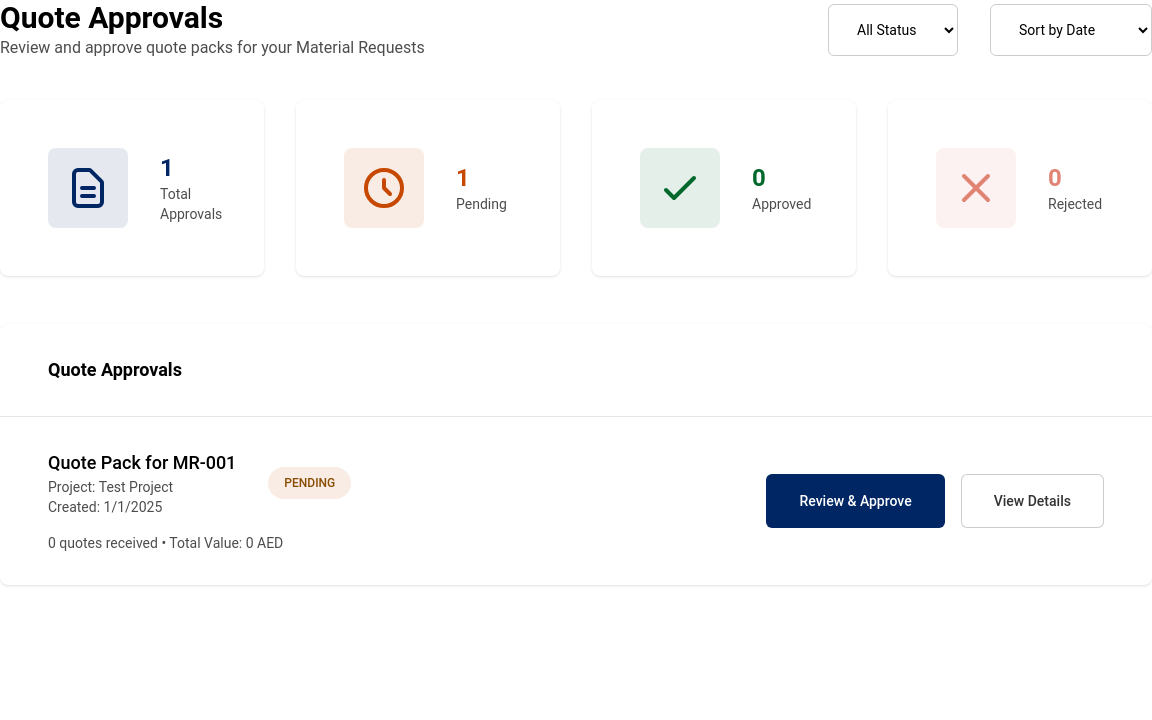
Test: QuoteApprovalDashboard › opens approval modal when approval is clicked
Expected: the heading "Quote Pack for MR-001" is shown, [48,449,236,477]
Click the button "Review & Approve" at (856, 501), box [766,474,945,528]
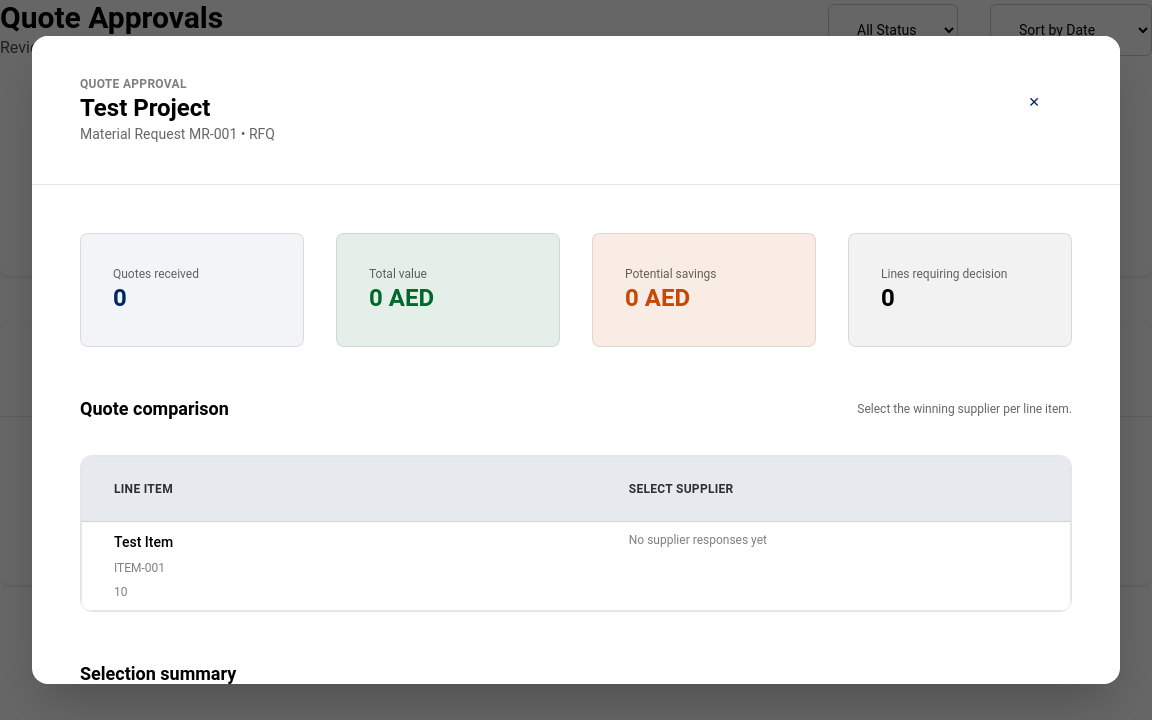
Expected: the text "Quote Approval" is shown, [80,77,187,91]
